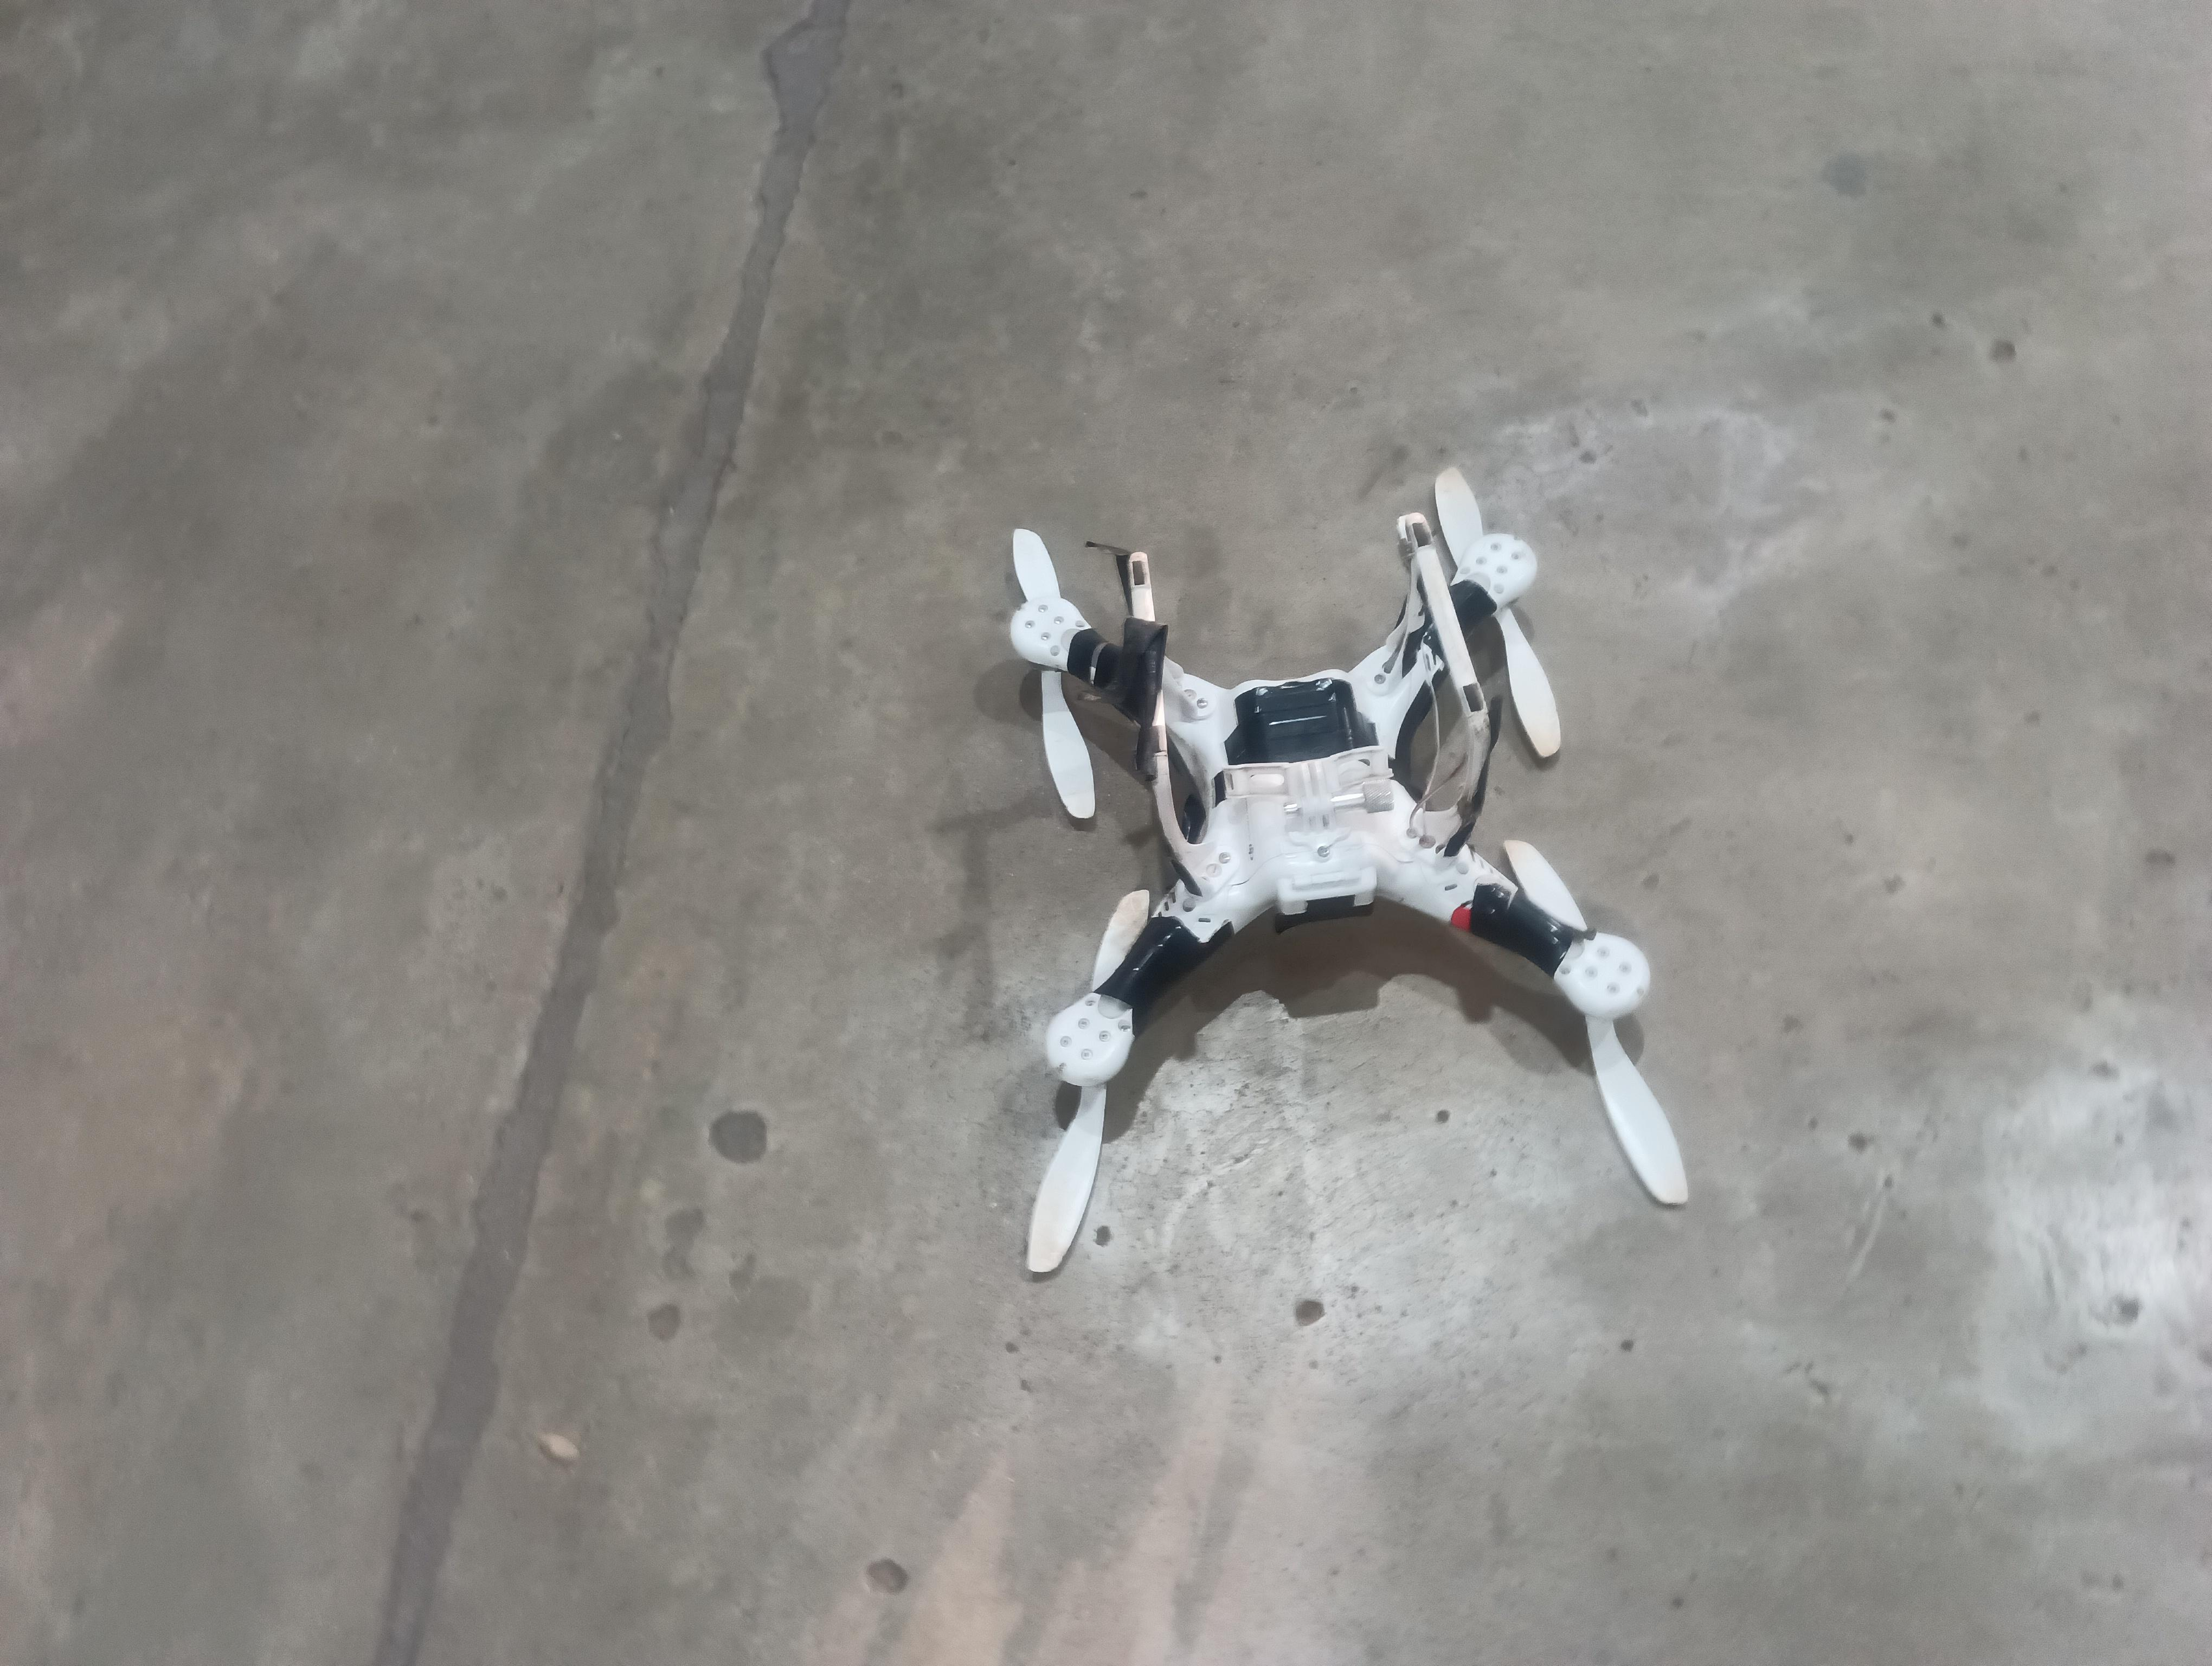drone: (913, 462, 1764, 1307)
